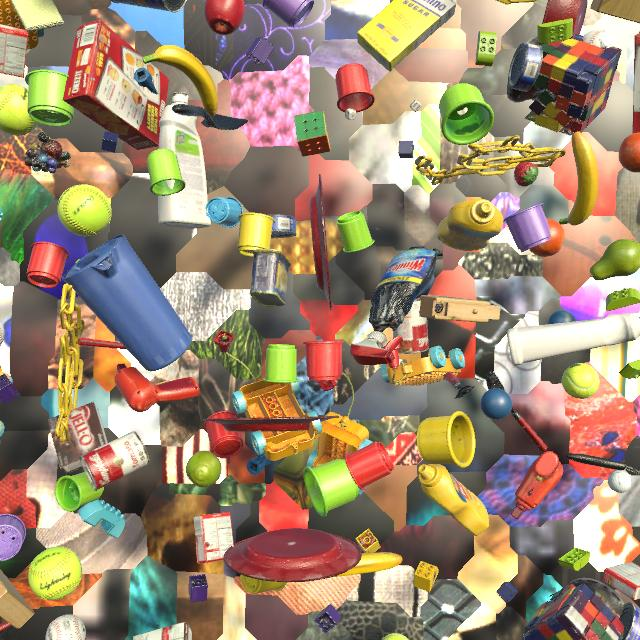ycb_002_master_chef_can: (110, 0, 187, 12), (619, 602, 640, 640)
ycb_003_cracker_box: (63, 20, 169, 150), (632, 34, 640, 134)
ycb_004_sugar_box: (357, 0, 456, 72)
ycb_005_tomato_soup_can: (79, 431, 149, 491), (393, 298, 429, 354)
ycb_006_mustard_bottle: (418, 464, 489, 536), (437, 198, 503, 251)
ycb_007_tuna_fish_can: (508, 43, 543, 92), (268, 214, 296, 238)
ycb_008_pudding_box: (48, 402, 108, 474), (133, 622, 192, 640)
ycb_009_gelatin_box: (193, 512, 234, 564), (0, 24, 28, 78), (602, 562, 640, 600)
ycb_010_potted_meat_can: (250, 249, 291, 307), (85, 638, 86, 640)
ycb_011_banana: (142, 45, 218, 117), (559, 131, 599, 226), (334, 552, 402, 577)
ycb_012_strawberry: (514, 162, 539, 187)
ycb_013_apple: (204, 0, 245, 35)
ycb_016_pear: (590, 239, 640, 281), (186, 450, 222, 487)
ycb_017_orange: (529, 218, 565, 257), (619, 132, 640, 173)
